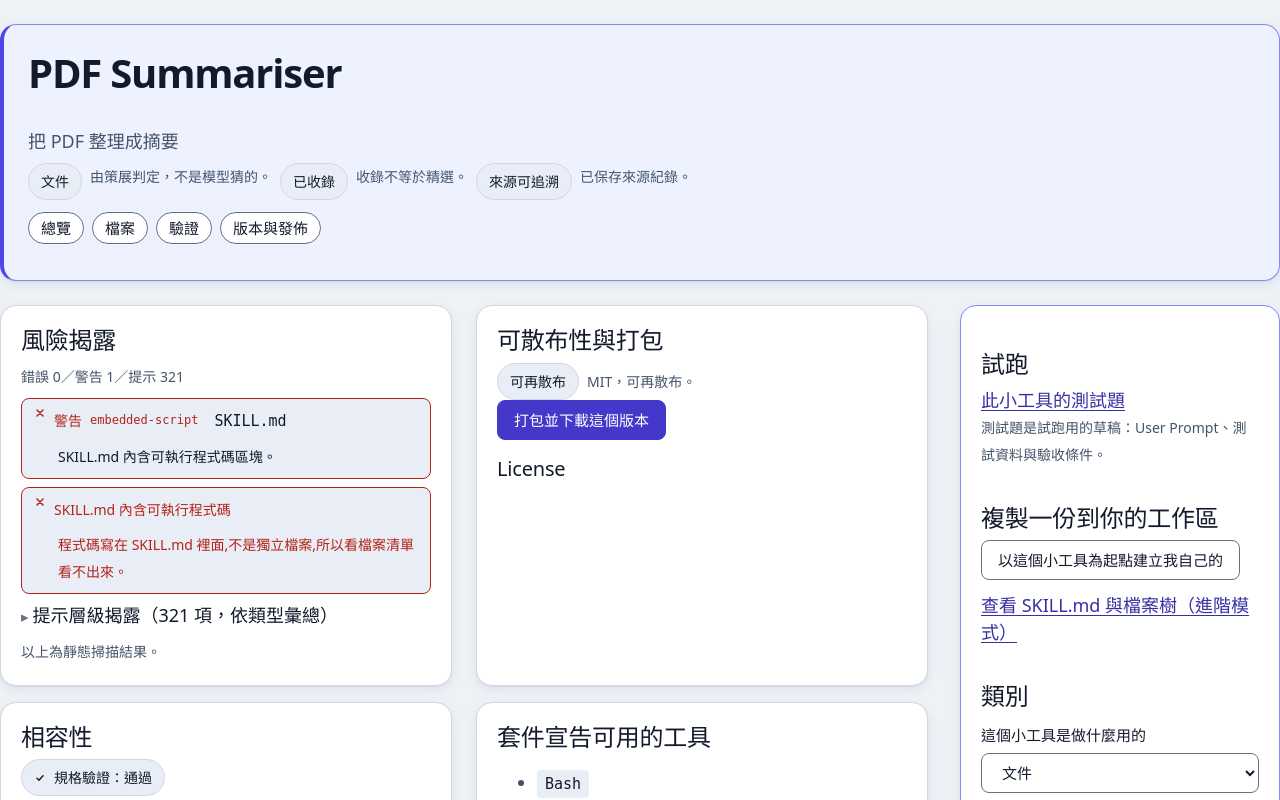
Scenario: 複製一份 409（副本名稱用完）說出副本已滿並指出資產庫裡的出路，不印 ErrNameTaken 的英文句
Click the button "以這個小工具為起點建立我自己的" at (1110, 560), box [981,540,1240,580]
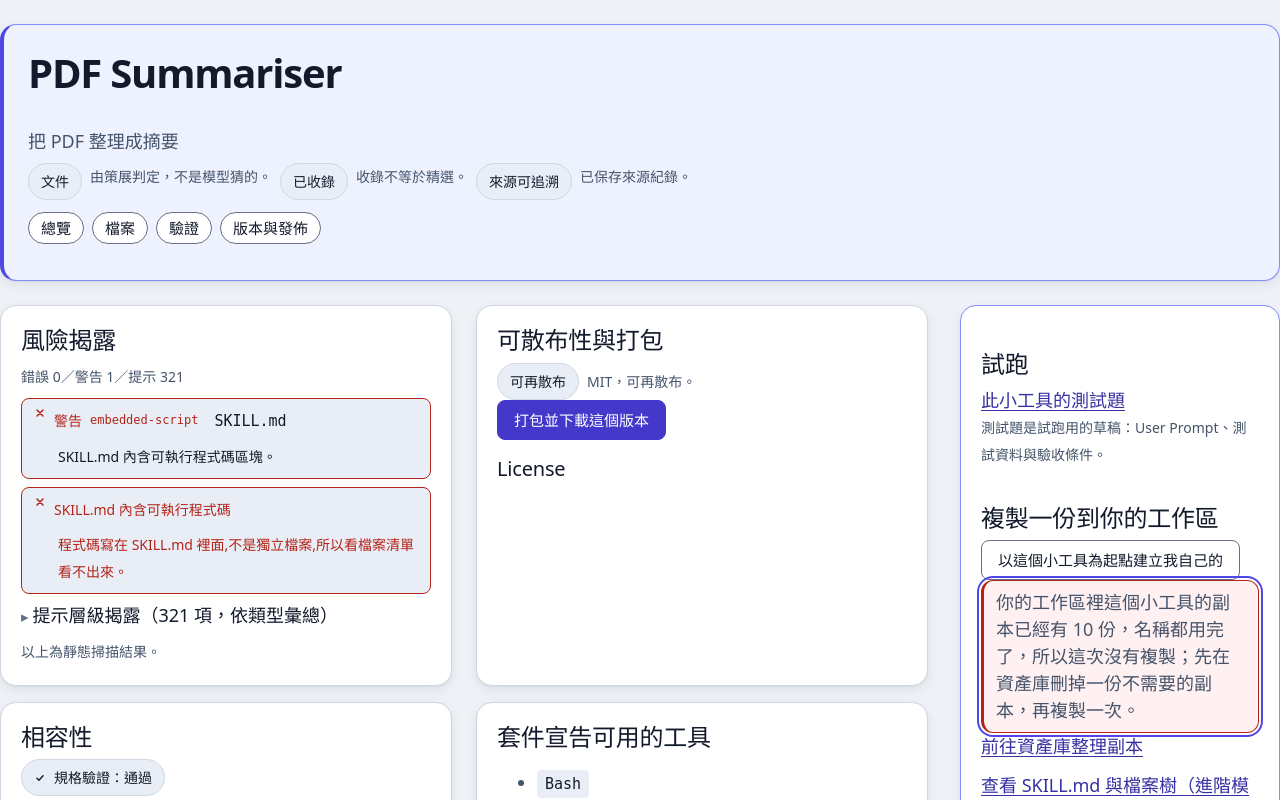
expect the text "你的工作區裡這個小工具的副本已經有 10 份，名稱都用完了，所以這次沒有複製；先在資產庫刪掉一份不需要的副本，再複製一次。" is shown: met, box [981,580,1259,733]
